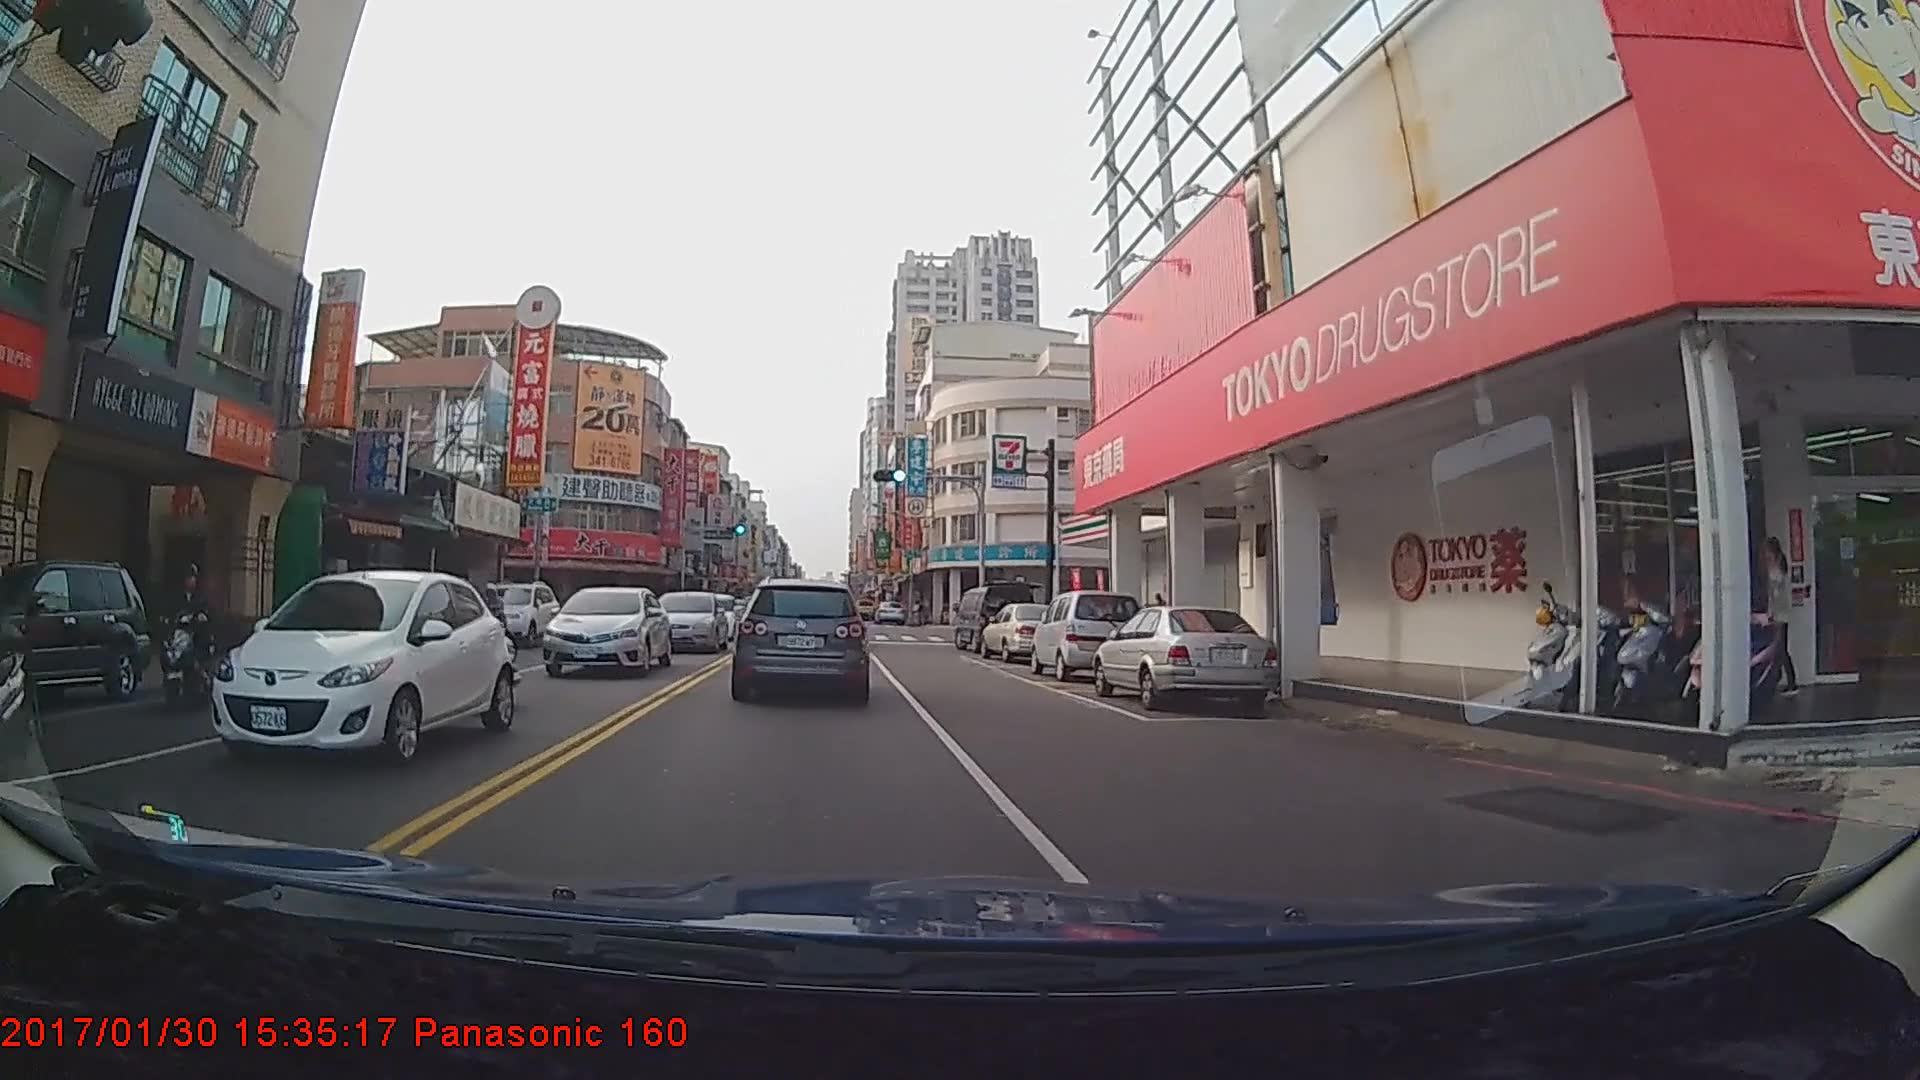pedestrian: (1762, 534, 1803, 694)
rider: (159, 565, 231, 709)
vehicle: (194, 566, 505, 774), (0, 558, 149, 708), (1093, 601, 1278, 716), (735, 580, 867, 703), (540, 584, 668, 676), (1026, 586, 1142, 678), (951, 581, 1035, 655), (978, 601, 1073, 664), (470, 581, 561, 647), (648, 589, 727, 654), (873, 597, 904, 622)
